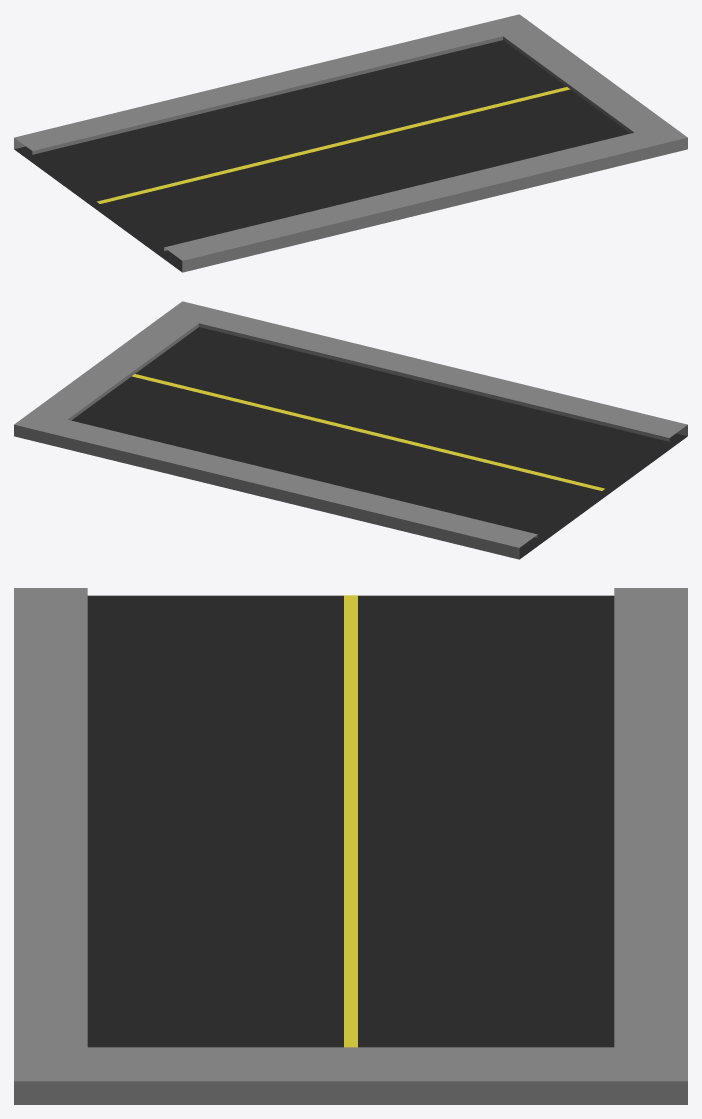
Rendered from road6.fbx.
3 renders of one model, top to bottom at view 1: azimuth 30°, elevation 25°; view 2: azimuth 150°, elevation 25°; view 3: azimuth 270°, elevation 25°, orthographic. The views are drawn at different scales.
Visible parts, largest first — view 1: Roads.008; view 2: Roads.008; view 3: Roads.008.
Boxes of the visible parts, box(x1,y1,x2,y2) form: Roads.008: box(14, 14, 687, 272); Roads.008: box(14, 301, 687, 559); Roads.008: box(14, 588, 687, 1104).
Size of the model in its own units: 1998 by 44.36 by 1154.
